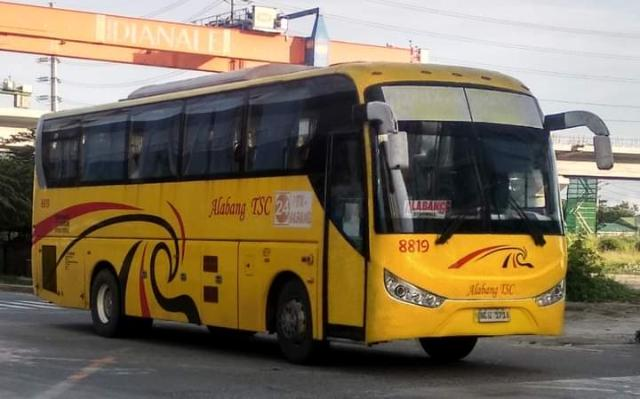bus: (30, 61, 586, 357)
